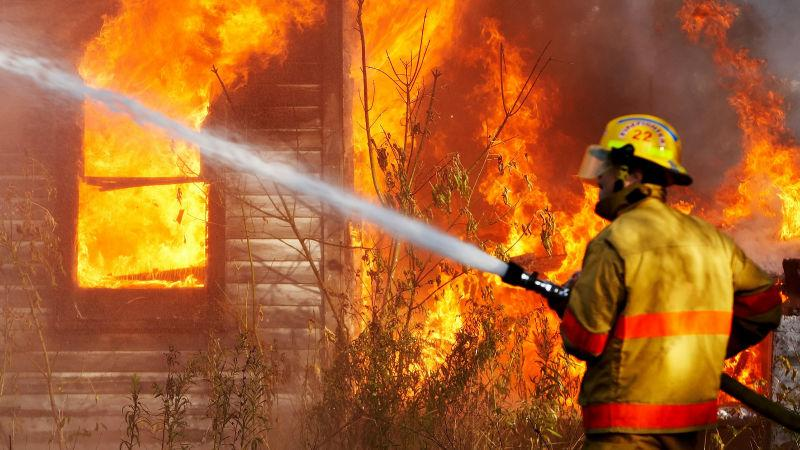Fire: (378, 2, 794, 373), (74, 2, 319, 284)
